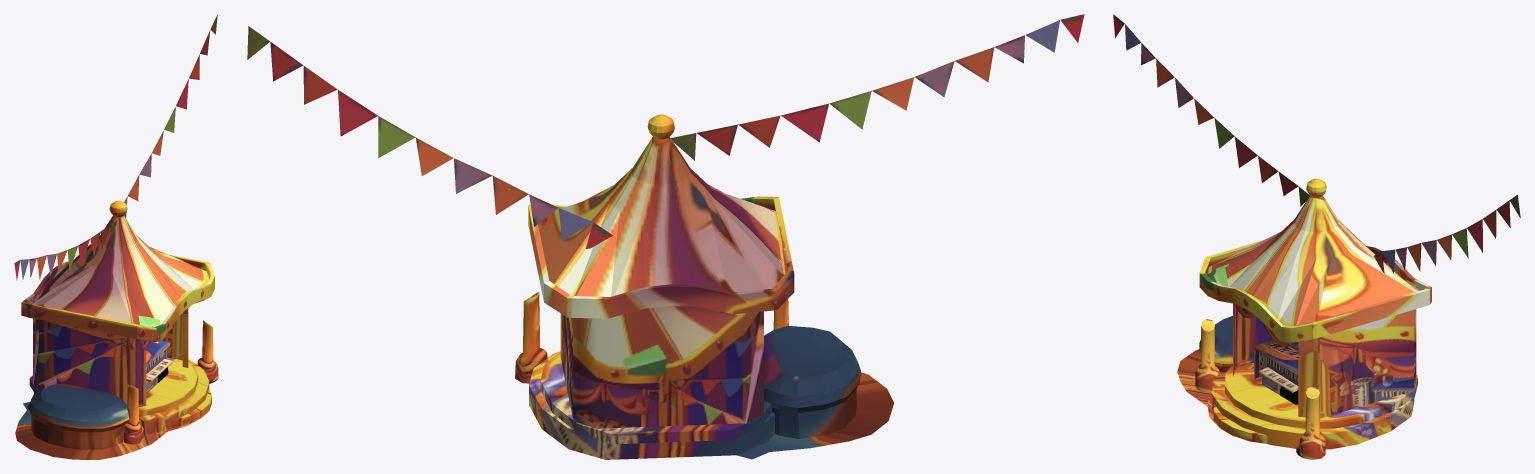
Rendered from stage_01_5.fbx.
The picture shows the model from 3 angles, left to right: view 1: azimuth 30°, elevation 25°; view 2: azimuth 150°, elevation 25°; view 3: azimuth 270°, elevation 25°; orthographic projection. The views are drawn at different scales.
Parts seen in each view (by area): view 1: 5_4, 5_5, 5_6, 5_1, 5_3, 5_2; view 2: 5_4, 5_6, 5_5, 5_1, 5_2, 5_3; view 3: 5_4, 5_6, 5_1, 5_2, 5_3, 5_5.
Boxes of the visible parts, left/top/right/bottom form: 5_4: left=15, top=200, right=214, bottom=459; 5_5: left=28, top=383, right=129, bottom=449; 5_6: left=14, top=14, right=217, bottom=280; 5_1: left=23, top=359, right=211, bottom=436; 5_3: left=124, top=320, right=218, bottom=444; 5_2: left=29, top=340, right=198, bottom=416; 5_4: left=528, top=114, right=893, bottom=451; 5_6: left=247, top=14, right=1084, bottom=248; 5_5: left=764, top=326, right=860, bottom=438; 5_1: left=529, top=351, right=790, bottom=459; 5_2: left=540, top=380, right=771, bottom=444; 5_3: left=515, top=291, right=788, bottom=383; 5_4: left=1177, top=178, right=1431, bottom=421; 5_6: left=1113, top=14, right=1520, bottom=273; 5_1: left=1207, top=371, right=1414, bottom=449; 5_2: left=1225, top=340, right=1417, bottom=428; 5_3: left=1195, top=319, right=1325, bottom=459; 5_5: left=1199, top=316, right=1298, bottom=372.
Size of the model in its own units: 645 by 445 by 522.
